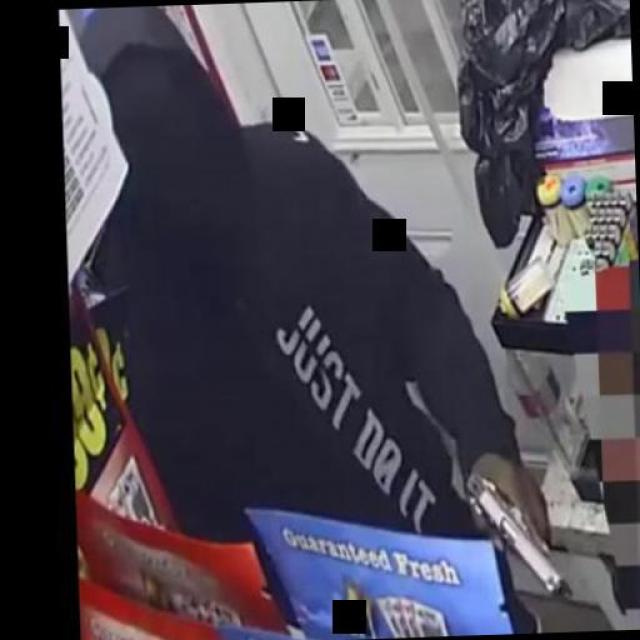gun: (460, 458, 570, 596)
